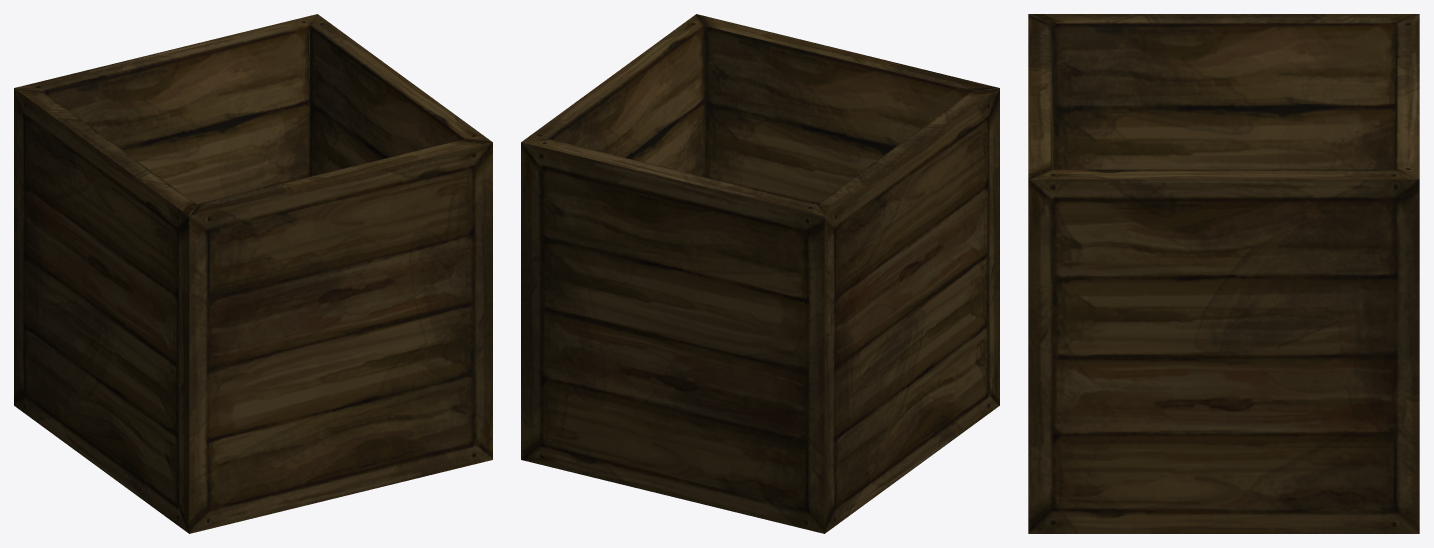
The model's file is Crate04.fbx.
3 renders of one model, left to right at view 1: azimuth 30°, elevation 25°; view 2: azimuth 150°, elevation 25°; view 3: azimuth 270°, elevation 25°, orthographic. The views are drawn at different scales.
Visible parts, largest first — view 1: Crate04; view 2: Crate04; view 3: Crate04.
Boxes of the visible parts, bbox=[...] form: Crate04: bbox=[14, 14, 492, 533]; Crate04: bbox=[521, 14, 999, 533]; Crate04: bbox=[1028, 14, 1419, 533].
Bounding box in the file's own units: 1.11 × 1.11 × 1.11.
1 material, 1 textured.
